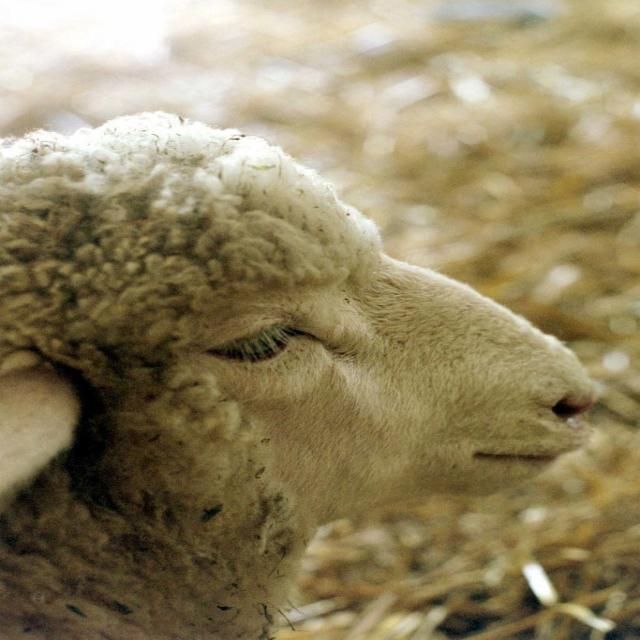Sheep: (0, 107, 596, 639)
